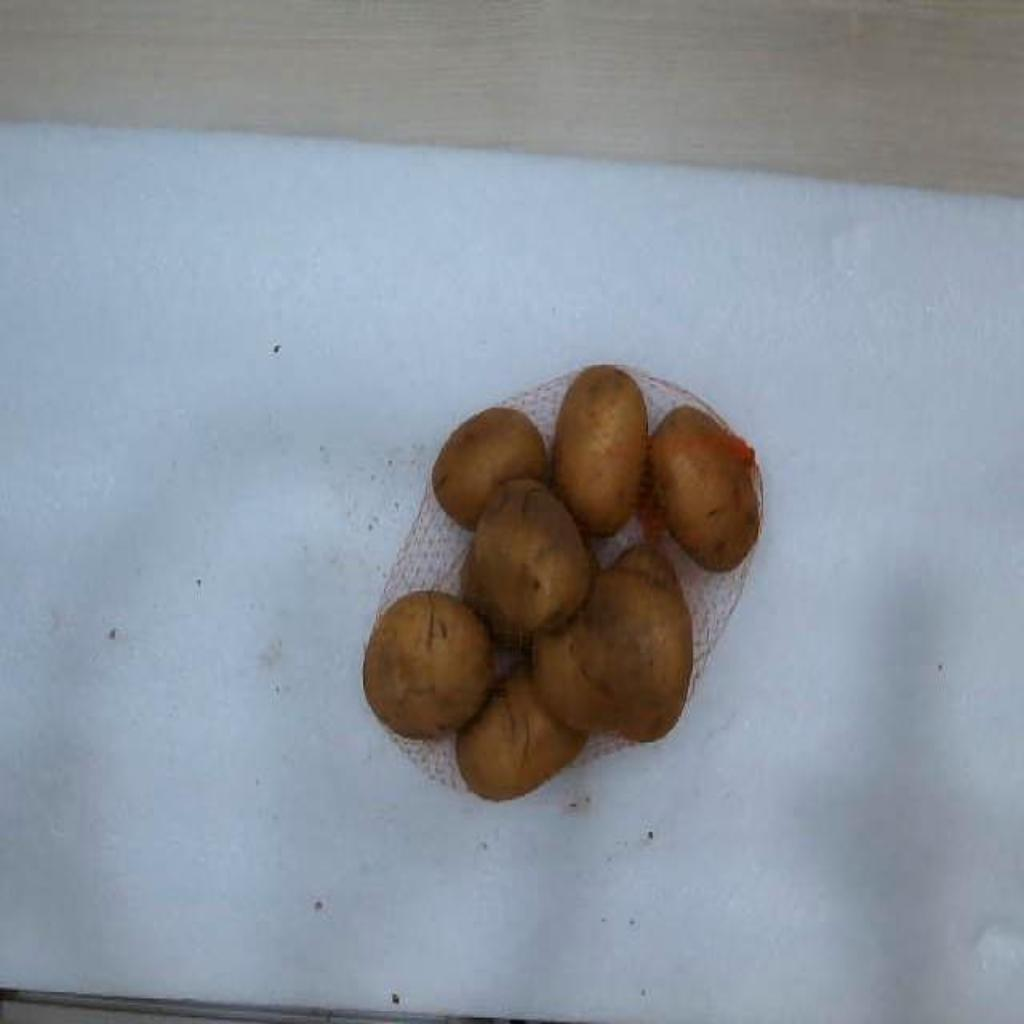potato: (534, 547, 692, 740), (462, 477, 592, 636), (364, 592, 494, 737), (650, 408, 760, 569), (456, 669, 586, 800), (554, 365, 648, 535), (432, 408, 546, 528)
